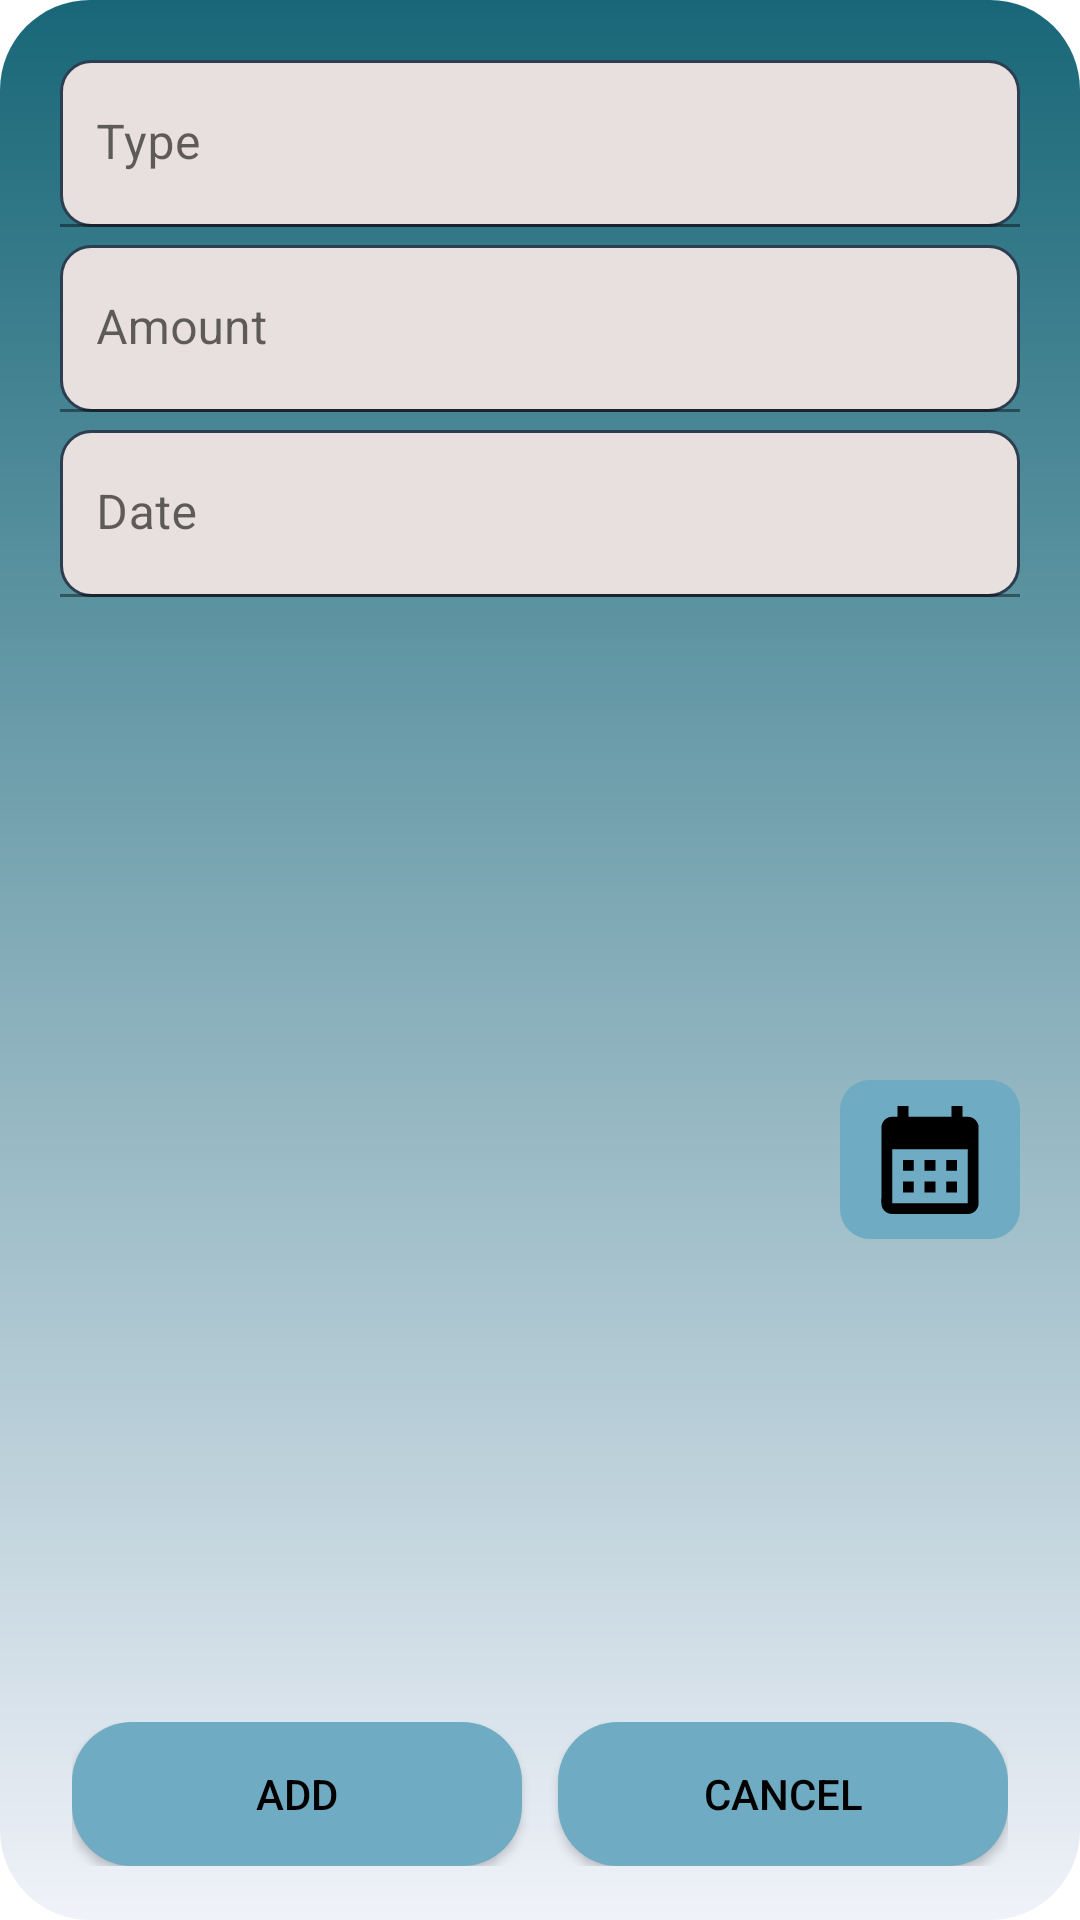

Icon click points for this 1080px x 1920px phone screenshot, format (x=x, y=y):
Calendar icon: (x=930, y=1159)
